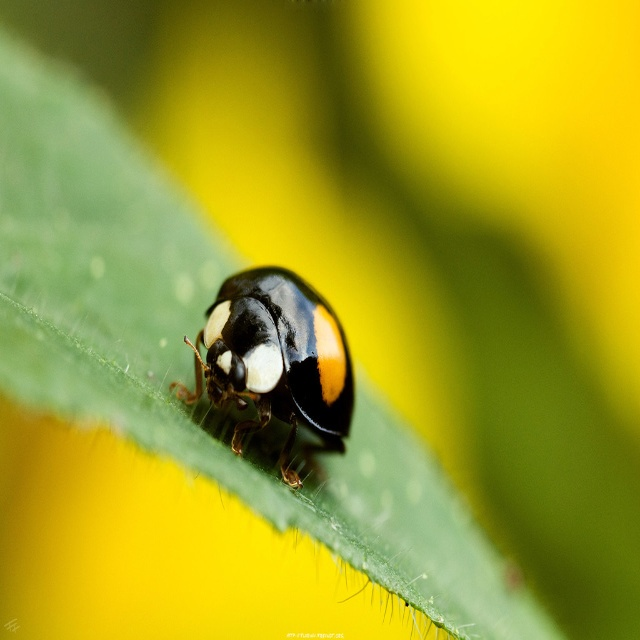Ladybug: (169, 264, 356, 490)
